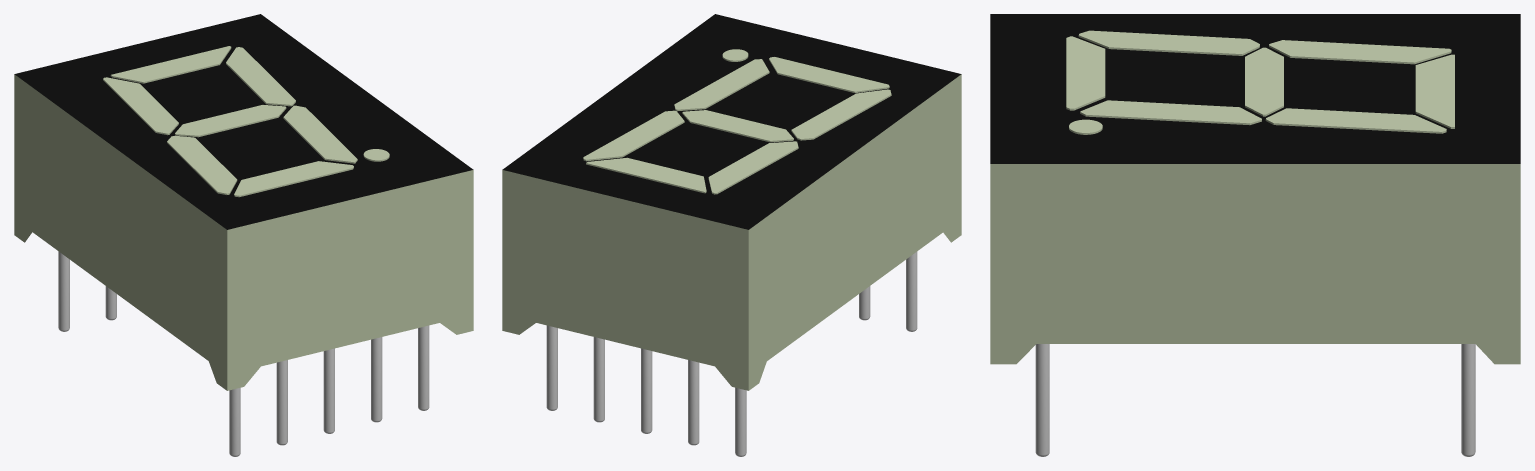
Rendered from 22. 1DIGIT TUBE.gltf.
The picture shows the model from 3 angles, left to right: view 1: azimuth 30°, elevation 25°; view 2: azimuth 150°, elevation 25°; view 3: azimuth 270°, elevation 25°; orthographic projection. The views are drawn at different scales.
Parts seen in each view (by area): view 1: 7 segment display.001; view 2: 7 segment display.001; view 3: 7 segment display.001.
Part boxes in pixels (x1,y1,x2,y2): 7 segment display.001: (14,14,473,456); 7 segment display.001: (502,14,961,456); 7 segment display.001: (990,14,1520,456).
Size of the model in its own units: 0.0127 by 0.0123 by 0.019.
